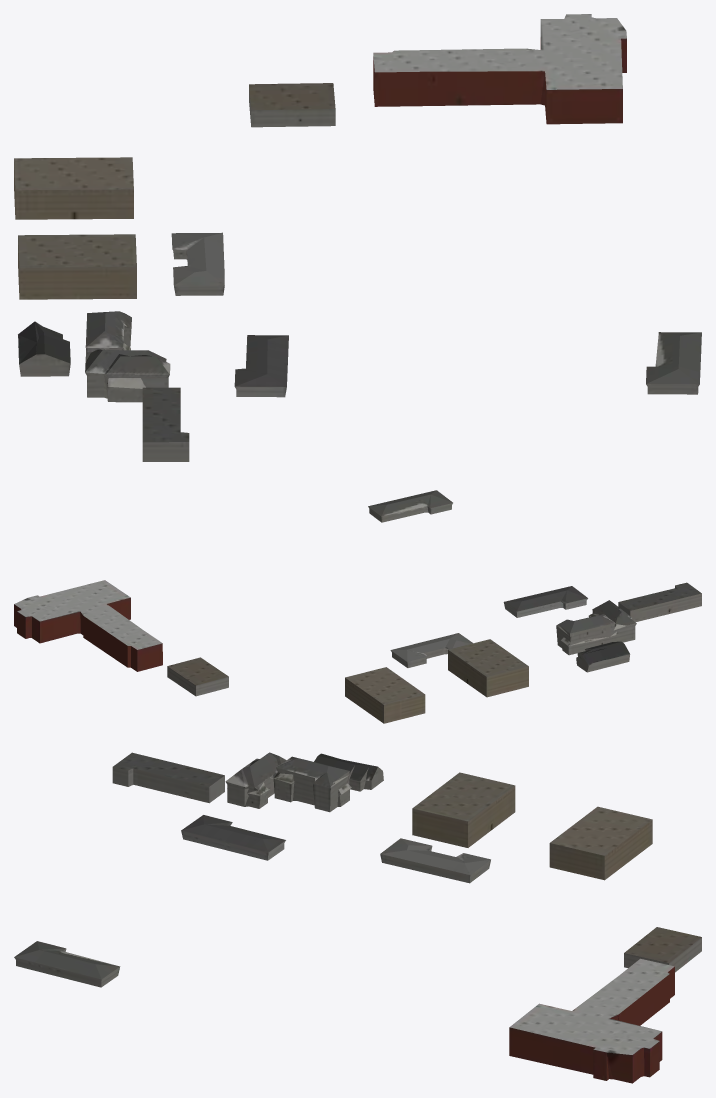
File: t_2_-3.coat.glb
3 views of the same model, one above another, from view 1: azimuth 30°, elevation 25°; view 2: azimuth 150°, elevation 25°; view 3: azimuth 270°, elevation 25° (orthographic). The views are drawn at different scales.
Parts seen in each view (by area): view 1: far; view 2: far; view 3: far.
Boxes of the visible parts, x1,y1,x2,y2 form: far: [14, 14, 701, 461]; far: [14, 490, 701, 723]; far: [14, 752, 701, 1083].
Bounding box in the file's own units: 227 × 11.99 × 208.
1 material, 1 textured.
